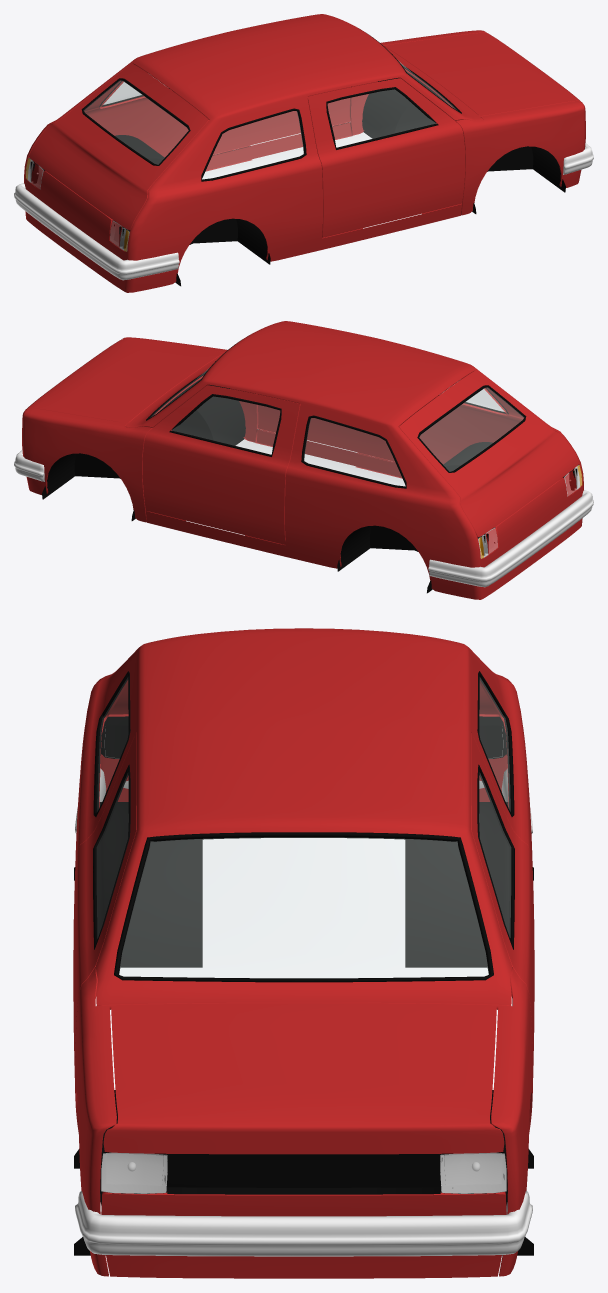
Rendered from jabuti-molde_lod2.glb.
3 renders of one model, top to bottom at view 1: azimuth 30°, elevation 25°; view 2: azimuth 150°, elevation 25°; view 3: azimuth 270°, elevation 25°, orthographic. The views are drawn at different scales.
Parts seen in each view (by area): view 1: body, door_fr, trunk, hood, fender_front_right, glass_rear, glass_door_rr, glass_door_fr, bumper_rear, door_fl, fender_front_left, bumper_front (+4 smaller); view 2: body, door_fl, trunk, hood, fender_front_left, glass_rear, glass_door_rl, glass_door_fl, bumper_rear, door_fr, fender_front_right, bumper_front (+4 smaller); view 3: body, hood, glass_windshield, bumper_front, grille, fender_front_left, fender_front_right, door_fl, door_fr, glass_door_fr, glass_door_fl, glass_door_rr (+5 smaller).
Part boxes in pixels (x1,y1,x2,y2): body: [24, 14, 565, 292]; door_fr: [307, 78, 465, 237]; trunk: [29, 63, 208, 230]; hood: [384, 32, 580, 116]; fender_front_right: [455, 101, 585, 215]; glass_rear: [81, 78, 190, 165]; glass_door_rr: [201, 108, 306, 181]; glass_door_fr: [326, 87, 438, 149]; bumper_rear: [14, 183, 179, 280]; door_fl: [213, 86, 351, 154]; fender_front_left: [350, 30, 485, 135]; bumper_front: [563, 143, 593, 174]; body: [42, 321, 583, 599]; door_fl: [142, 385, 300, 544]; trunk: [399, 370, 578, 537]; hood: [27, 339, 223, 423]; fender_front_left: [22, 408, 152, 522]; glass_rear: [417, 385, 526, 472]; glass_door_rl: [301, 415, 406, 488]; glass_door_fl: [169, 394, 281, 456]; bumper_rear: [428, 490, 593, 587]; door_fr: [256, 393, 394, 461]; fender_front_right: [122, 337, 257, 442]; bumper_front: [14, 450, 44, 481]; body: [74, 628, 533, 1278]; hood: [103, 1003, 504, 1154]; glass_windshield: [114, 832, 493, 982]; bumper_front: [75, 1191, 532, 1256]; grille: [167, 1154, 440, 1194]; fender_front_left: [491, 967, 532, 1276]; fender_front_right: [75, 967, 116, 1276]; door_fl: [471, 733, 534, 1077]; door_fr: [73, 733, 136, 1077]; glass_door_fr: [93, 764, 130, 949]; glass_door_fl: [477, 764, 514, 949]; glass_door_rr: [93, 671, 130, 816].
Bounding box in the file's own units: 3.62 × 1.11 × 1.5.
Materials: 9 (1 with a texture image).
